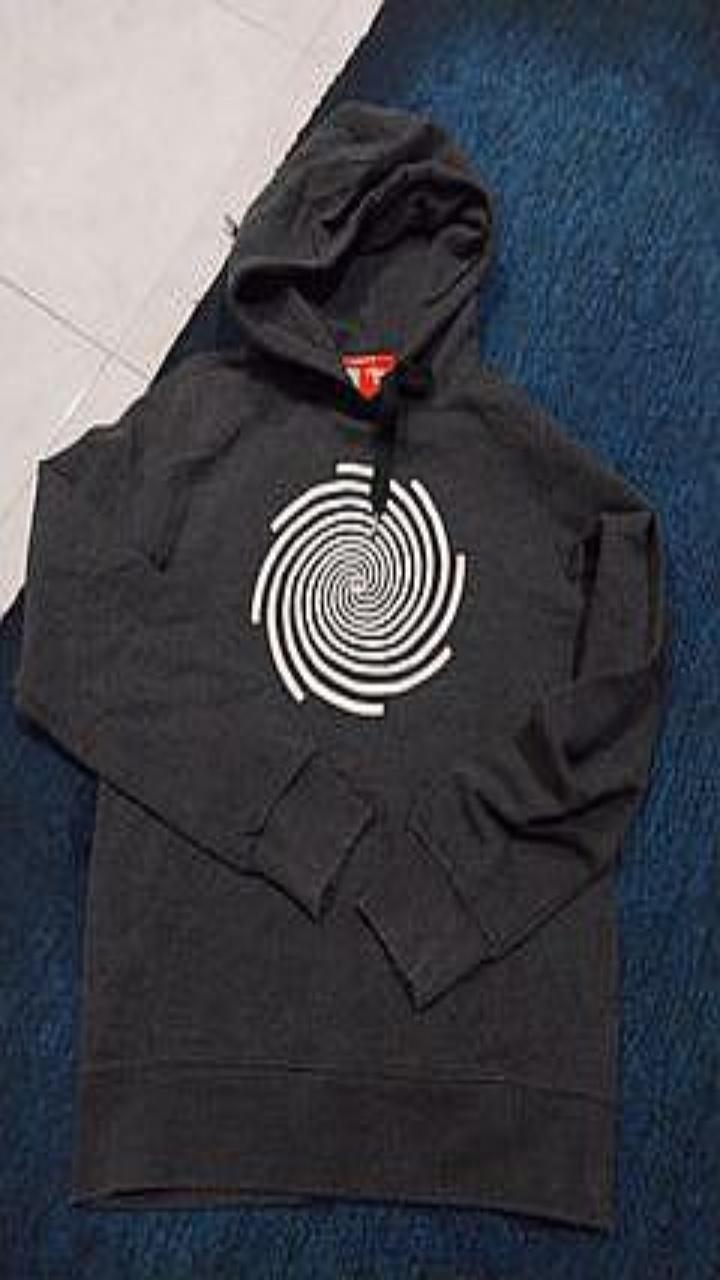Hoodie: (16, 101, 666, 1227)
